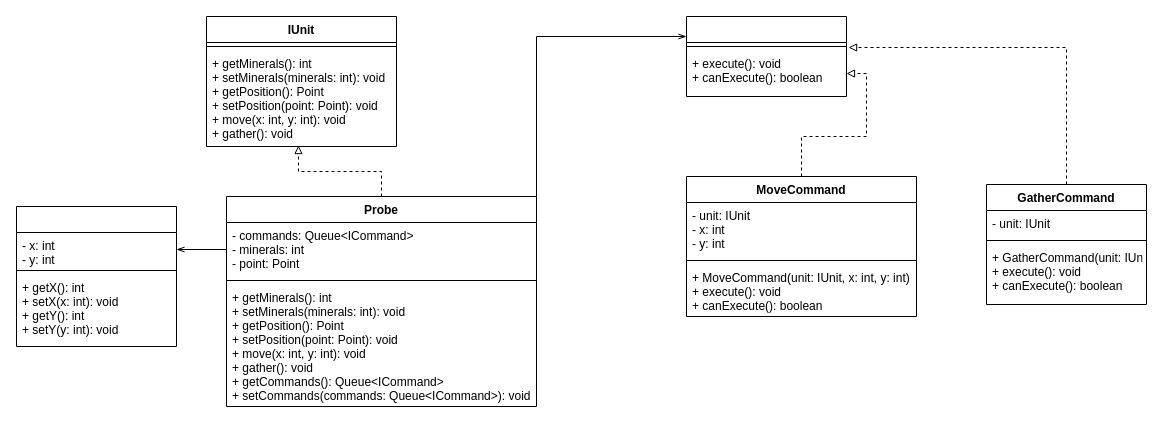
The diagram is 1170 pixels wide and 423 high, and some of its shapes have lost their labels. Each missing label, with the box of its shape:
ICommand: (686, 16, 846, 96)
Point: (16, 206, 176, 346)
